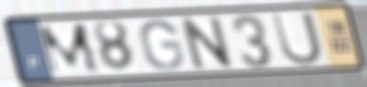3: (231, 12, 273, 71)
8: (93, 19, 135, 76)
G: (138, 18, 187, 72)
M: (35, 21, 104, 78)
N: (177, 14, 237, 72)
U: (268, 9, 325, 67)
